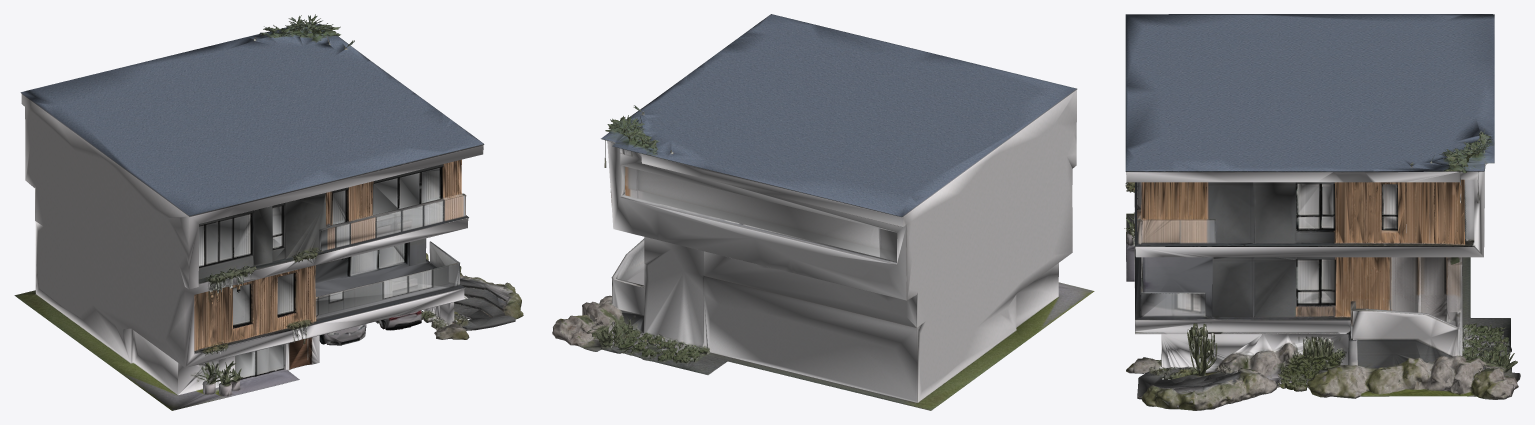
The model's file is villa-high.glb.
3 views of the same model, side by side, from view 1: azimuth 30°, elevation 25°; view 2: azimuth 150°, elevation 25°; view 3: azimuth 270°, elevation 25° (orthographic). The views are drawn at different scales.
Visible parts, largest first — view 1: mesh_node; view 2: mesh_node; view 3: mesh_node.
Part boxes in pixels (<box>): mesh_node: <box>14,14,523,410</box>; mesh_node: <box>552,14,1094,410</box>; mesh_node: <box>1124,14,1520,410</box>.
Bounding box in the file's own units: 2 × 1.06 × 1.68.
Materials: 1 (1 with a texture image).
